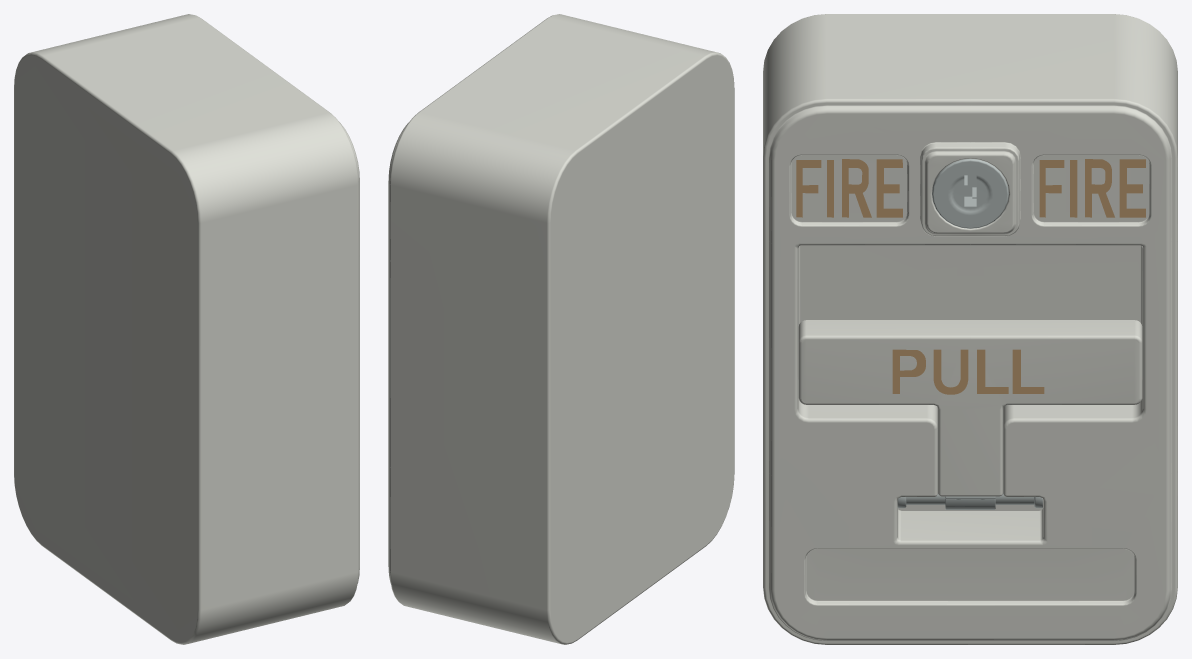
Rendered from warehouse_fireAlarm_wallSwitch_a01.glb.
The picture shows the model from 3 angles, left to right: view 1: azimuth 30°, elevation 25°; view 2: azimuth 150°, elevation 25°; view 3: azimuth 270°, elevation 25°; orthographic projection. The views are drawn at different scales.
Size of the model in its own units: 0.0544 by 0.1426 by 0.0982.
